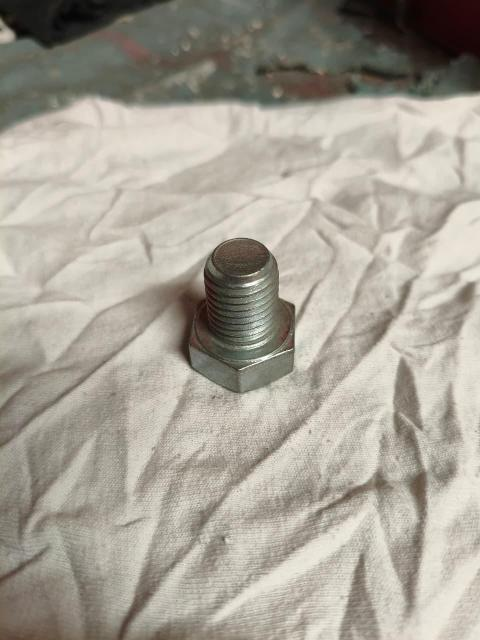Metal: (175, 232, 325, 392)
